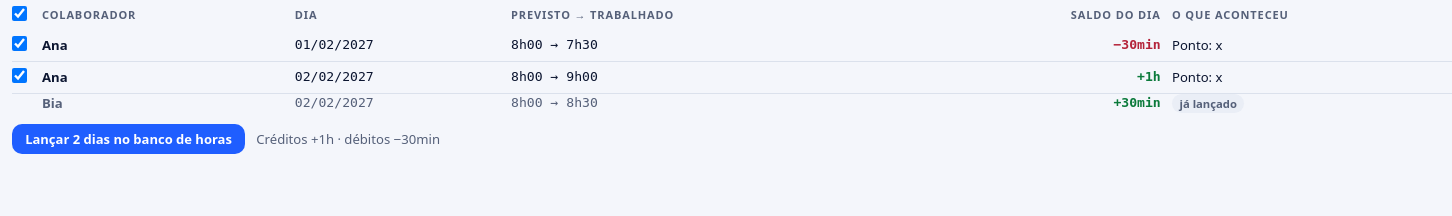
Test: ListaApuracao › vem tudo marcado (menos o já lançado), mostra o total e lança só os marcados
Expected: the button "Lançar 2 dias no banco de horas" is shown, [12, 124, 245, 154]
Expected: the text "já lançado" is shown, [1172, 94, 1244, 113]
Click the checkbox named "Lançar Ana em 01/02/2027". click: (20, 43)
box: [12, 36, 27, 51]
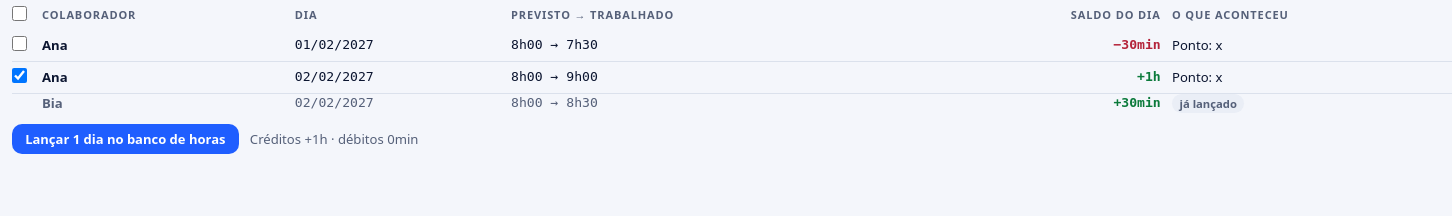
Click the button "Lançar 1 dia no banco de horas". click: (125, 139)
box: [12, 124, 239, 154]
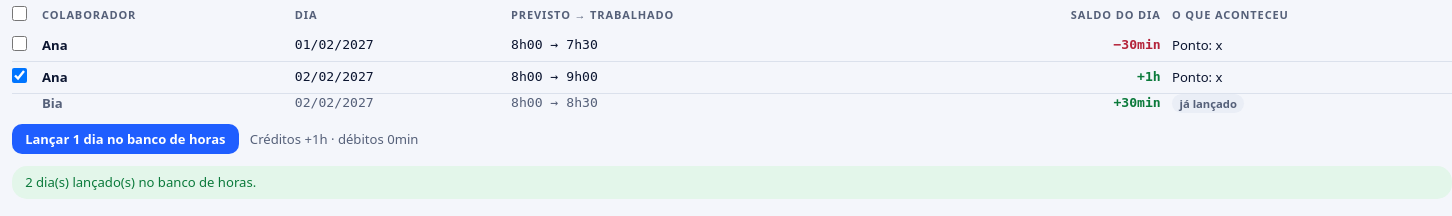
Expected: the text "2 dia(s) lançado(s) no banco de horas." is shown, [12, 166, 1451, 199]
